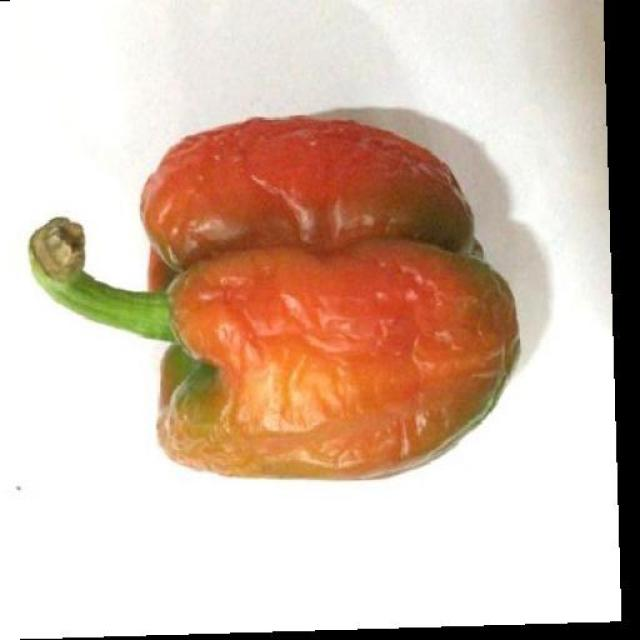Stale_Capsicum: (99, 93, 510, 504)
